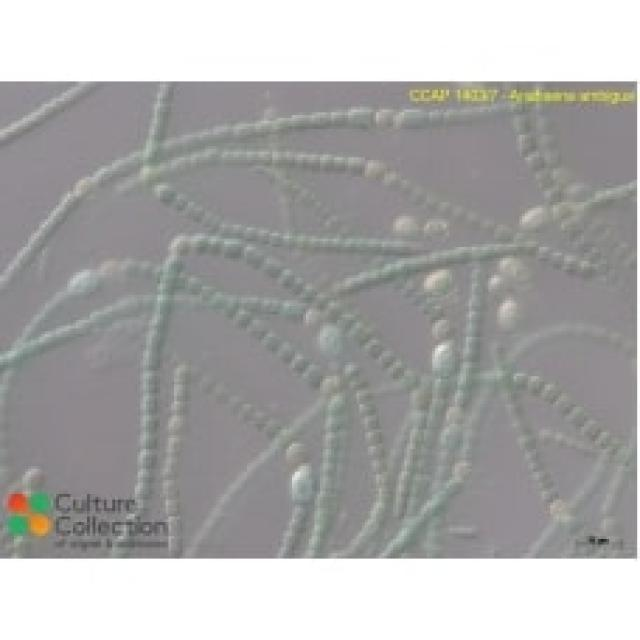Blue Green Algae: (393, 107, 427, 129), (516, 132, 539, 157), (303, 362, 323, 390), (219, 239, 244, 261), (410, 387, 429, 413), (559, 255, 578, 281), (348, 107, 373, 126), (289, 112, 312, 132), (345, 154, 365, 177), (168, 362, 191, 382), (140, 345, 160, 368), (140, 373, 160, 396), (132, 482, 157, 500), (168, 233, 188, 255), (188, 233, 208, 255), (289, 351, 309, 373), (160, 480, 180, 502), (135, 466, 157, 486), (138, 446, 157, 469), (160, 458, 182, 477), (354, 384, 376, 402), (140, 143, 163, 160), (525, 373, 542, 396), (578, 258, 595, 281), (443, 477, 466, 494), (365, 160, 384, 180), (154, 183, 174, 202), (463, 337, 483, 356), (138, 429, 160, 446), (514, 112, 530, 135), (356, 402, 382, 416), (93, 166, 112, 185), (455, 385, 474, 404), (466, 294, 486, 312), (534, 166, 550, 188), (146, 124, 168, 140), (222, 298, 238, 320), (138, 412, 157, 430), (205, 233, 222, 253), (320, 300, 337, 320), (429, 104, 444, 126), (376, 107, 393, 126), (376, 351, 393, 370), (323, 429, 342, 446), (264, 328, 278, 351), (328, 110, 348, 126), (171, 382, 191, 398), (334, 312, 354, 328), (253, 120, 275, 134), (275, 266, 292, 284), (309, 110, 328, 126), (362, 429, 382, 444), (272, 115, 289, 132), (365, 337, 382, 354), (165, 499, 182, 516), (140, 396, 158, 412), (230, 124, 250, 138), (466, 312, 486, 326), (463, 326, 483, 340), (320, 460, 340, 474), (578, 416, 595, 432), (528, 149, 542, 168), (542, 382, 556, 401), (365, 416, 384, 430), (328, 157, 346, 171), (238, 308, 252, 326), (511, 370, 525, 388), (322, 449, 340, 463), (544, 185, 558, 202), (303, 152, 320, 166), (258, 228, 272, 245), (390, 362, 404, 379), (314, 152, 328, 168), (270, 233, 284, 247), (168, 402, 186, 412), (295, 152, 306, 166)
